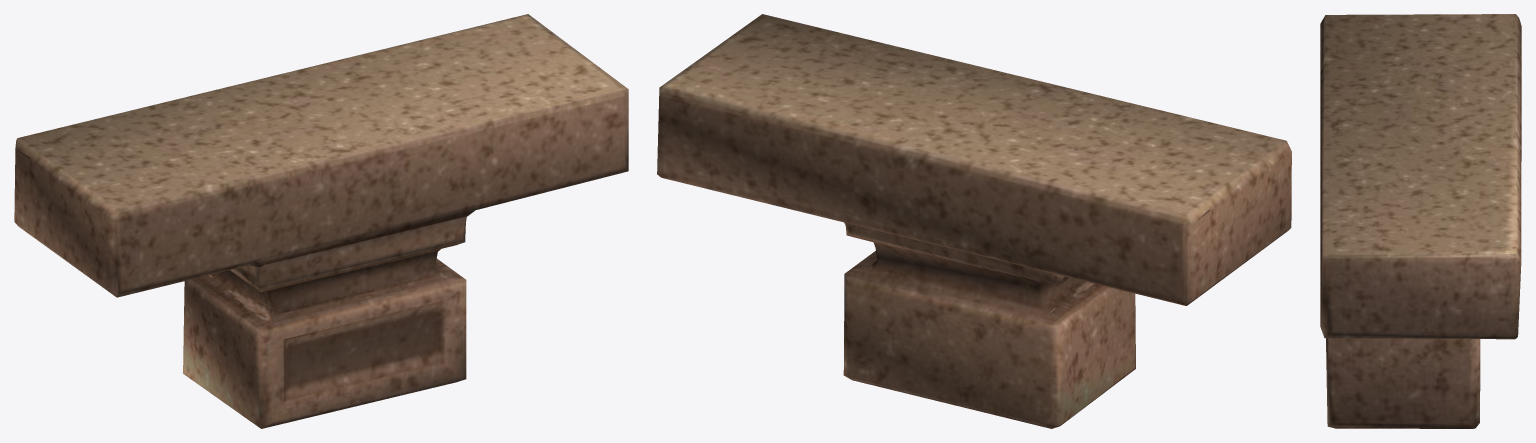
Rendered from bench_red_far.glb.
The picture shows the model from 3 angles, left to right: view 1: azimuth 30°, elevation 25°; view 2: azimuth 150°, elevation 25°; view 3: azimuth 270°, elevation 25°; orthographic projection. The views are drawn at different scales.
Visible parts, largest first — view 1: bench_red_lod1; view 2: bench_red_lod1; view 3: bench_red_lod1.
Part boxes in pixels (x1,y1,x2,y2): bench_red_lod1: [14, 14, 628, 428]; bench_red_lod1: [657, 14, 1291, 428]; bench_red_lod1: [1320, 14, 1521, 428].
Bounding box in the file's own units: 0.98 × 0.47 × 0.34.
Materials: 1 (1 with a texture image).
